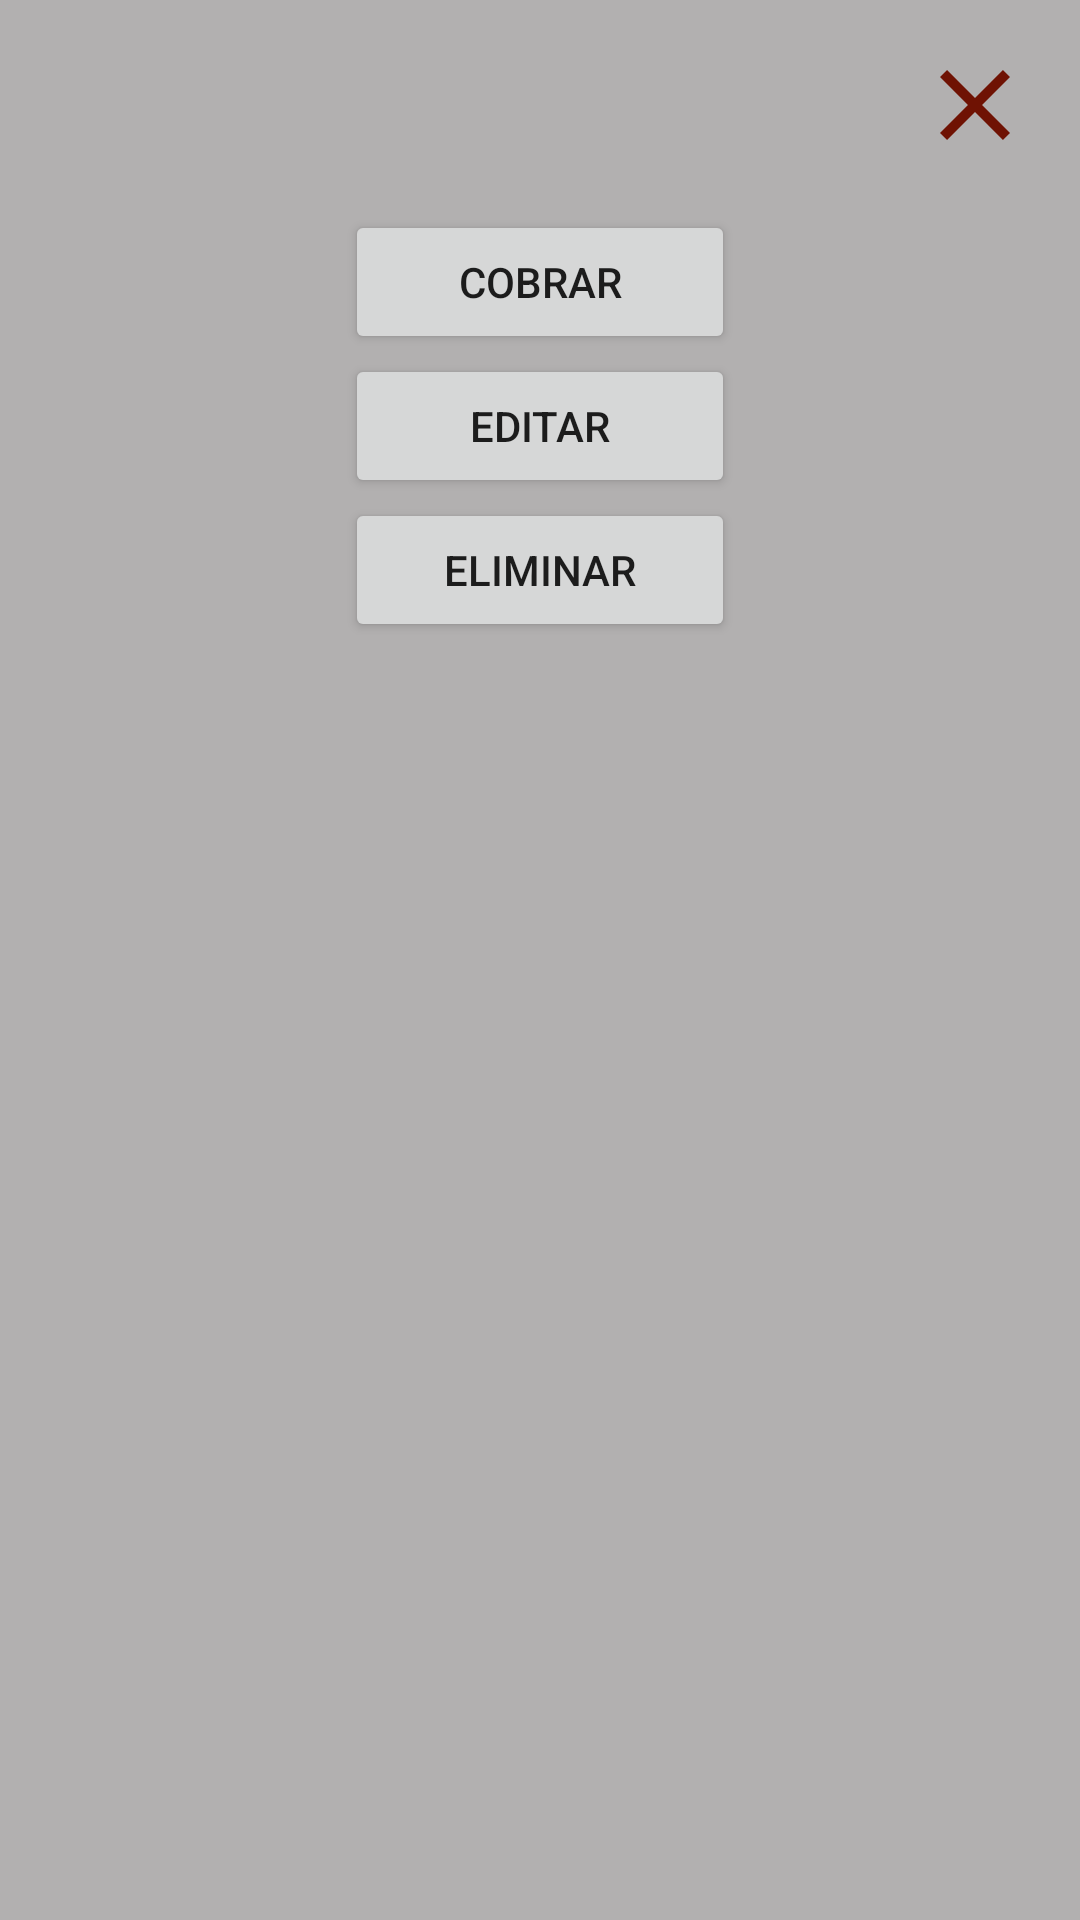

Icons on this 1080 × 1920 Android screen, each with its box as [left=x1, top=y1, right=x2, bottom=y2]:
close: [left=940, top=70, right=1010, bottom=140]
